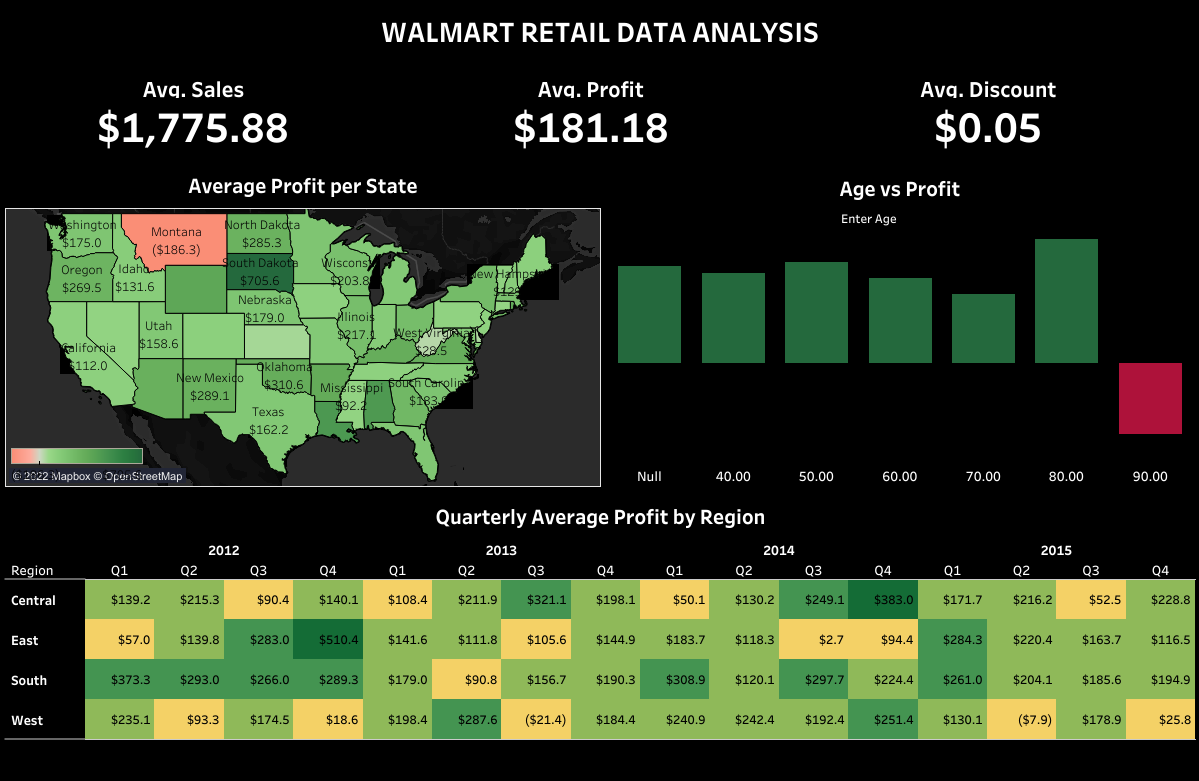

What the dashboard file says about the page in this screenshot:
{"tool":"tableau","page":{"name":"Dashboard 2","canvas":[1000,1000],"units":"permille","ordinal":0},"visuals":[{"type":"title","box":[6.7,9.3,986.7,52.3]},{"type":"worksheet","title":"State-wise profit","mark":"Multipolygon","box":[4.2,211.6,496.7,411.6]},{"type":"worksheet","title":"Age wise Profit","mark":"Automatic","rows":["Profit"],"cols":["Customer Age (bin)"],"box":[506.7,215.1,486.7,404.7]},{"type":"parameter","param":"[Parameters].[Parameter 1]","box":[700.8,257,106.7,41.9]},{"type":"legend","title":"State-wise profit","param":"[federated.0nb93ii0lyzq3p183ip4707vnd6v].[avg:Profit:qk]","box":[5.8,567.4,116.7,88.4]},{"type":"worksheet","title":"Quarerly Profit by Region","mark":"Square","rows":["Region"],"cols":["Order Date","Order Date"],"box":[4.2,633.7,992.5,352.3]}]}

Visuals, with their boxes on the dashboard's canvas, which has no fixed pixel size, in thousandths of its width and height (x1, y1, x2, y2). These are canvas units, not pixel positions in the 1199x781 screenshot, which may show the page scaled, cropped or inside an application window:
title: locate(7, 9, 993, 62)
"State-wise profit" worksheet (Multipolygon marks): locate(4, 212, 501, 623)
"Age wise Profit" worksheet: locate(507, 215, 993, 620)
parameter: locate(701, 257, 808, 299)
"State-wise profit" legend: locate(6, 567, 122, 656)
"Quarerly Profit by Region" worksheet (Square marks): locate(4, 634, 997, 986)
